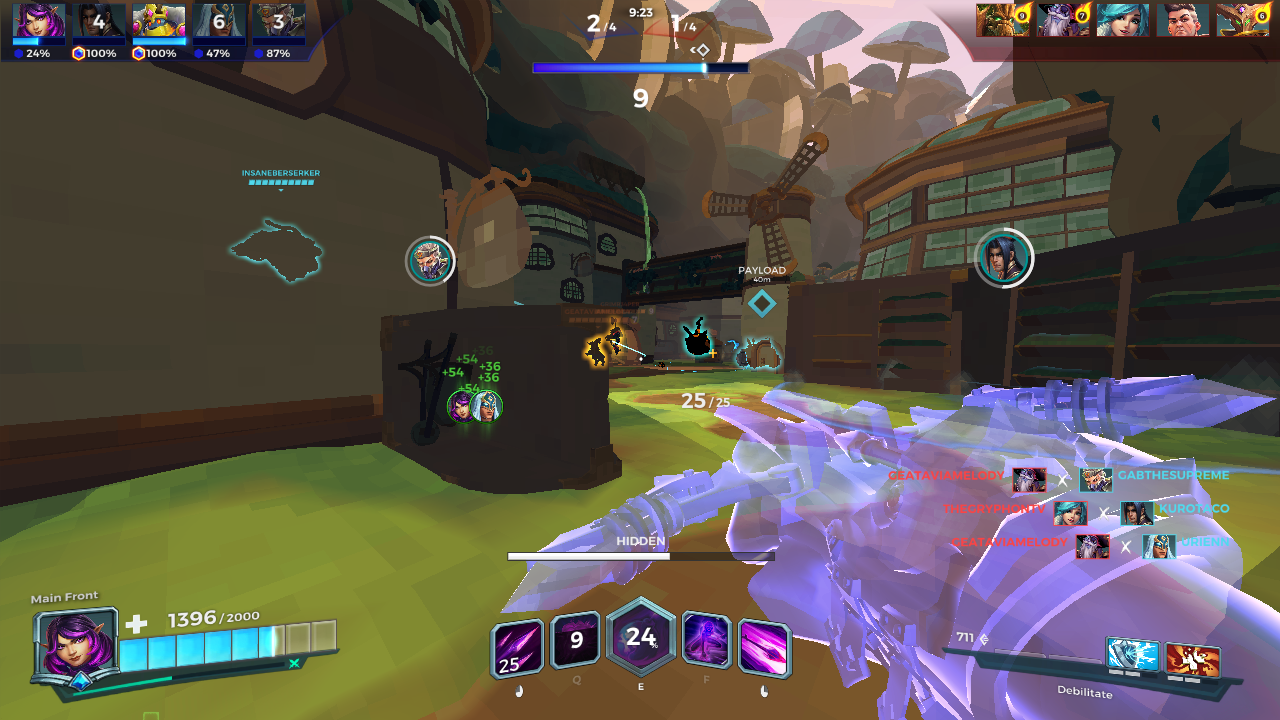model: (580, 338, 611, 369), (608, 327, 627, 351)
